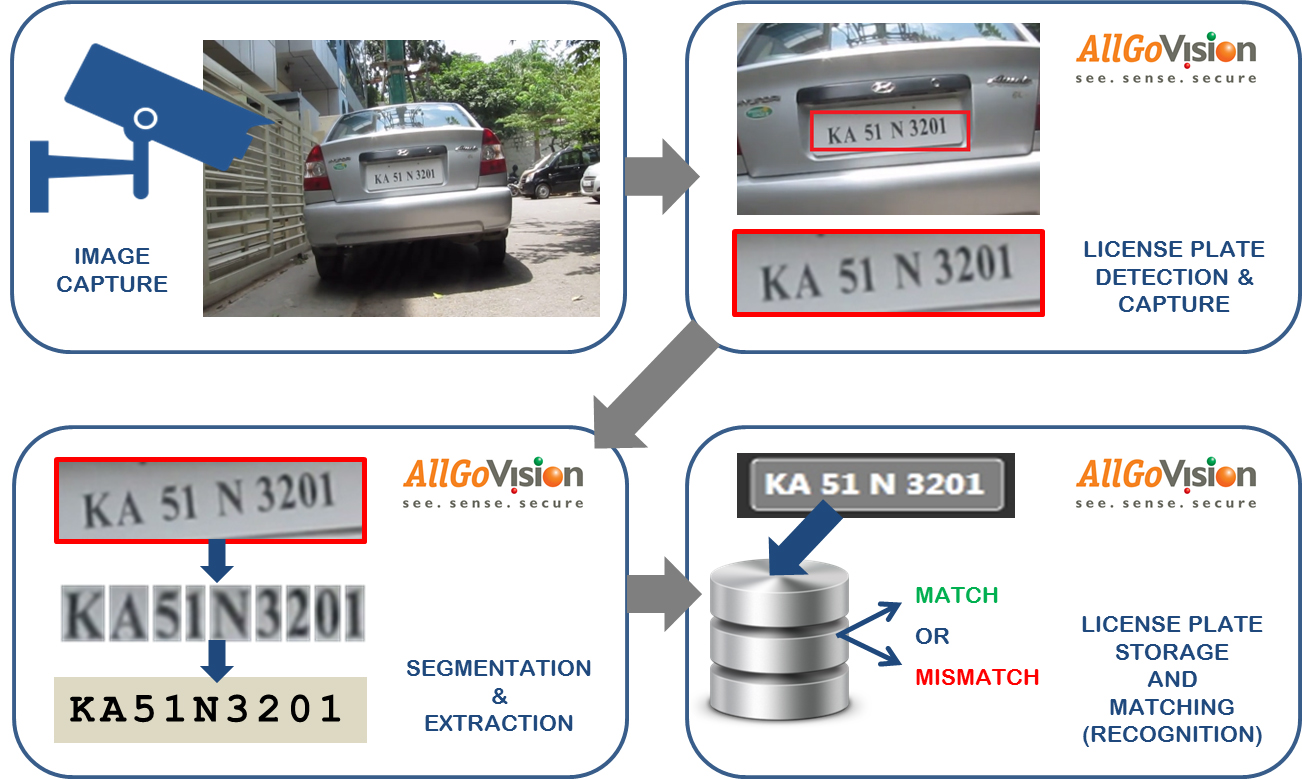license plate: (360, 159, 445, 189)
